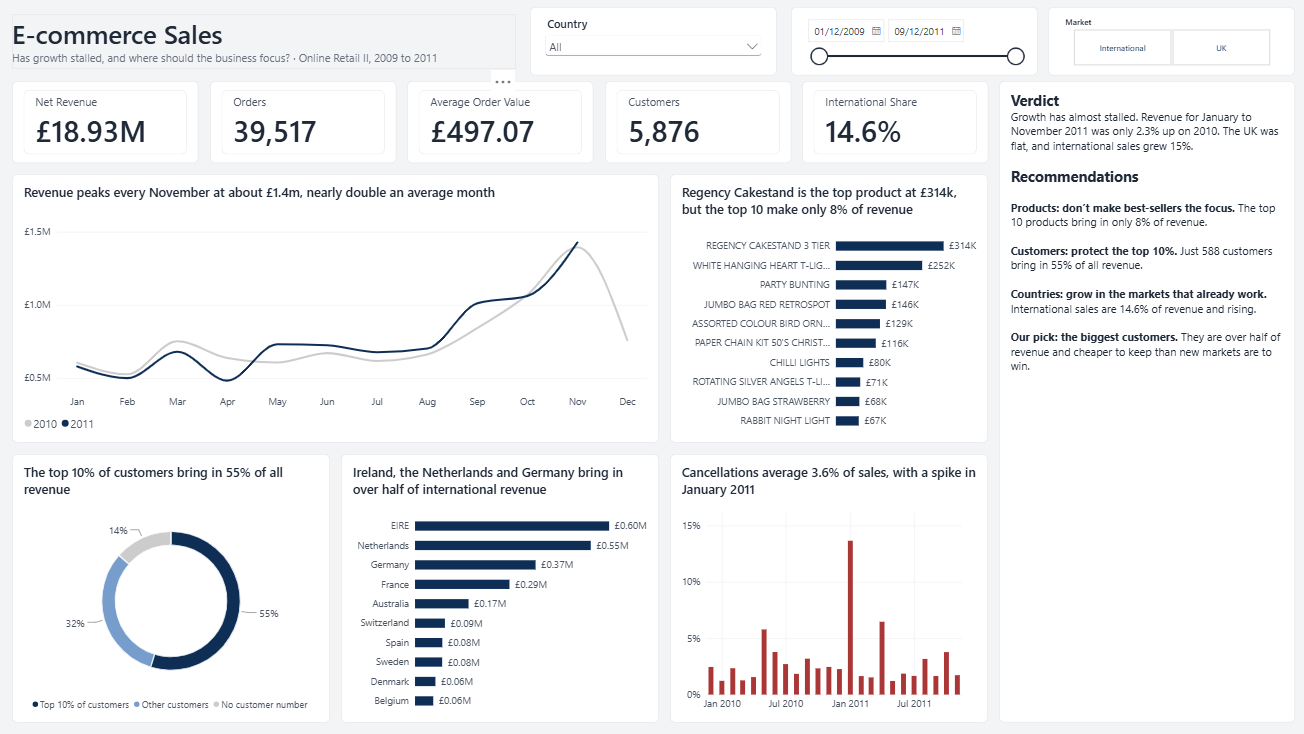

Layout of this report page (visuals, bound fields, positions):
{"tool":"powerbi","page":{"name":"Page 1","canvas":[1920,1080],"ordinal":0},"visuals":[{"type":"cardVisual","fields":{"Data":["sales_export.Net Revenue"]},"box":[24,120,272,120],"z":0},{"type":"cardVisual","fields":{"Data":["sales_export.Orders Label"]},"box":[312,120,272,120],"z":1000},{"type":"cardVisual","fields":{"Data":["sales_export.Average Order Value"]},"box":[600,120,272,120],"z":2000},{"type":"cardVisual","fields":{"Data":["sales_export.Customers Label"]},"box":[888,120,272,120],"z":3000},{"type":"cardVisual","fields":{"Data":["sales_export.International Share"]},"box":[1176,120,272,120],"z":4000},{"type":"lineChart","title":"Revenue peaks every November at about £1.4m, nearly double an average month","fields":{"Category":["sales_export.Month"],"Series":["sales_export.Year"],"Y":["sales_export.Net Revenue"]},"box":[24,256,944,392],"z":5000},{"type":"clusteredBarChart","title":"Regency Cakestand is the top product at £314k, but the top 10 make only 8% of revenue","fields":{"Category":["sales_export.description"],"Y":["sales_export.Net Revenue"]},"box":[984,256,464,392],"z":6000},{"type":"clusteredBarChart","title":"Ireland, the Netherlands and Germany bring in over half of international revenue","fields":{"Category":["sales_export.country"],"Y":["sales_export.Net Revenue"]},"box":[504,664,464,392],"z":7000},{"type":"donutChart","title":"The top 10% of customers bring in 55% of all revenue","fields":{"Category":["sales_export.customer_group"],"Y":["sales_export.Net Revenue"]},"box":[24,664,464,392],"z":8000},{"type":"clusteredColumnChart","title":"Cancellations average 3.6% of sales, with a spike in January 2011","fields":{"Category":["sales_export.Month Start"],"Y":["sales_export.Cancelled %"]},"box":[984,664,464,392],"z":9000},{"type":"slicer","fields":{"Values":["sales_export.Order Date"]},"box":[1159.9,12,360.4,100],"z":10000},{"type":"slicer","fields":{"Values":["sales_export.country"]},"box":[784,12,360.4,100],"z":11000},{"type":"slicer","fields":{"Values":["sales_export.Market"]},"box":[1536,12,360,100],"z":12000},{"type":"textbox","box":[1464,120,432,936],"z":13000},{"type":"textbox","box":[24,24,736,80],"z":14000}]}

Visuals, with their boxes in screenshot pixels (x1, y1, x2, y2), scaled from the page's 1920x1080 canvas onto the 1304x734 screenshot:
cardVisual - sales_export.Net Revenue: [x1=16, y1=82, x2=201, y2=163]
cardVisual - sales_export.Orders Label: [x1=212, y1=82, x2=397, y2=163]
cardVisual - sales_export.Average Order Value: [x1=408, y1=82, x2=592, y2=163]
cardVisual - sales_export.Customers Label: [x1=603, y1=82, x2=788, y2=163]
cardVisual - sales_export.International Share: [x1=799, y1=82, x2=983, y2=163]
"Revenue peaks every November at about £1.4m, nearly double an average month" lineChart: [x1=16, y1=174, x2=657, y2=440]
"Regency Cakestand is the top product at £314k, but the top 10 make only 8% of revenue" clusteredBarChart: [x1=668, y1=174, x2=983, y2=440]
"Ireland, the Netherlands and Germany bring in over half of international revenue" clusteredBarChart: [x1=342, y1=451, x2=657, y2=718]
"The top 10% of customers bring in 55% of all revenue" donutChart: [x1=16, y1=451, x2=331, y2=718]
"Cancellations average 3.6% of sales, with a spike in January 2011" clusteredColumnChart: [x1=668, y1=451, x2=983, y2=718]
slicer - sales_export.Order Date: [x1=788, y1=8, x2=1033, y2=76]
slicer - sales_export.country: [x1=532, y1=8, x2=777, y2=76]
slicer - sales_export.Market: [x1=1043, y1=8, x2=1288, y2=76]
textbox: [x1=994, y1=82, x2=1288, y2=718]
textbox: [x1=16, y1=16, x2=516, y2=71]
